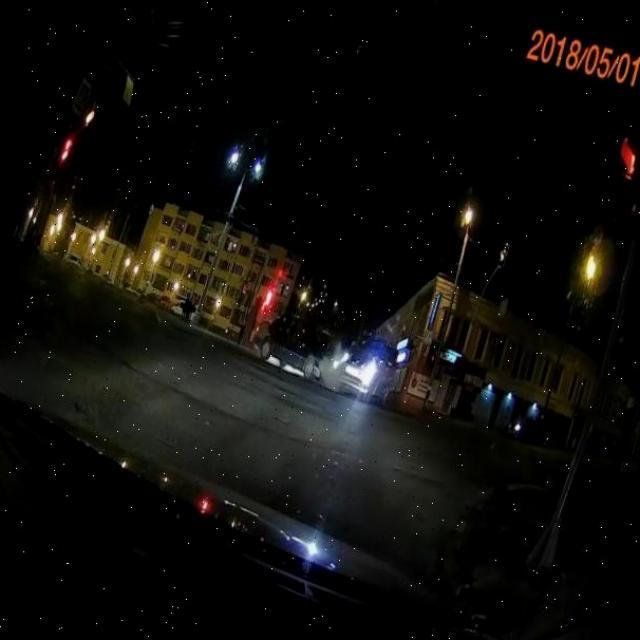accident: (240, 297, 408, 414)
